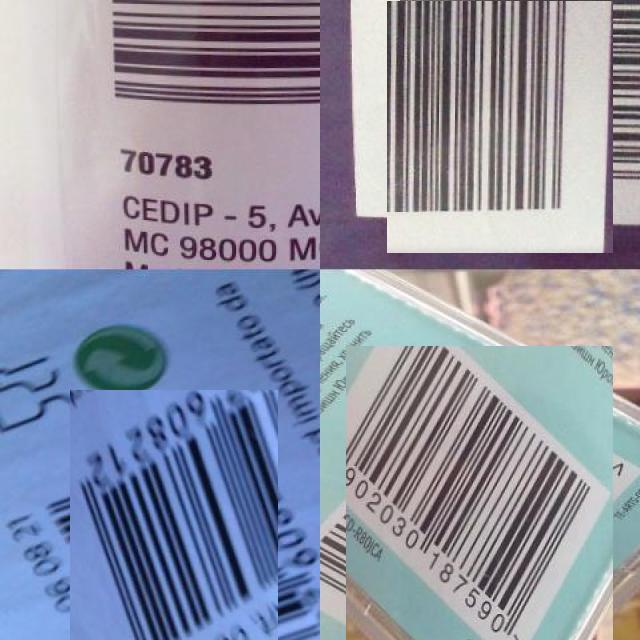Barcode: (333, 359, 627, 640), (373, 0, 627, 240), (49, 411, 299, 640), (80, 0, 320, 147)
